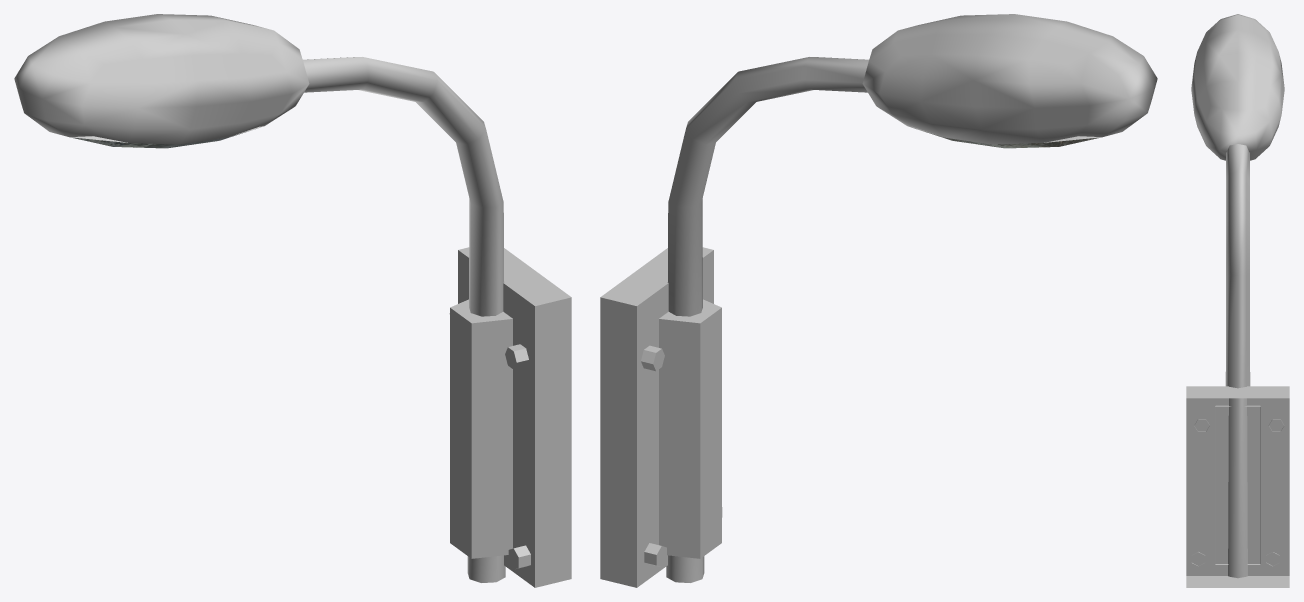
The model's file is wall_lamp01.fbx.
The picture shows the model from 3 angles, left to right: view 1: azimuth 30°, elevation 25°; view 2: azimuth 150°, elevation 25°; view 3: azimuth 270°, elevation 25°; orthographic projection. The views are drawn at different scales.
Parts seen in each view (by area): view 1: wall_lamp01; view 2: wall_lamp01; view 3: wall_lamp01.
Boxes of the visible parts, bbox=[...] form: wall_lamp01: bbox=[14, 14, 571, 587]; wall_lamp01: bbox=[600, 14, 1157, 587]; wall_lamp01: bbox=[1186, 14, 1289, 587].
Size of the model in its own units: 1.52 by 1.8 by 0.3925.
